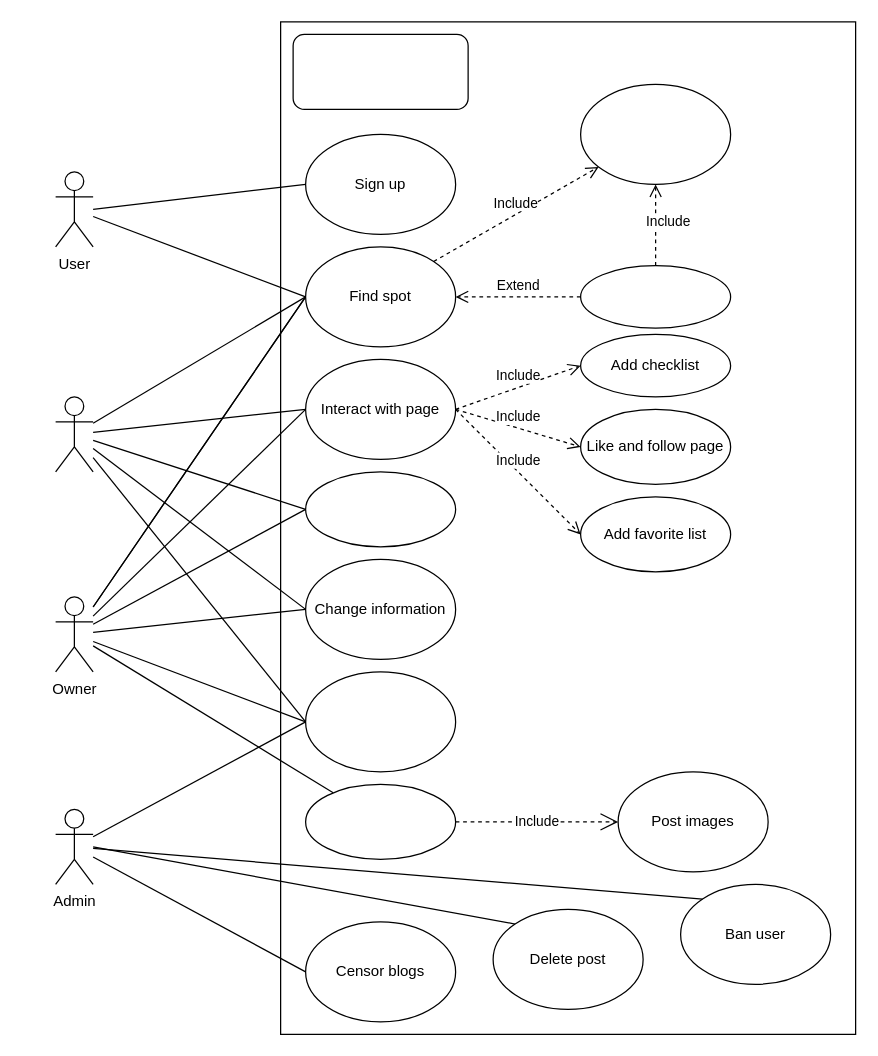
Some shapes in this 878 by 1056 pixel diagram are drawn without their labels. Here are the shapes that lost their labels. From the top down, the box of each, then its label:
(292, 33, 468, 109): Gudspot environment
(579, 83, 731, 184): Export into Google Map link
(579, 264, 731, 328): Recommend spot
(54, 396, 93, 472): Registered user
(304, 471, 456, 547): Comment on blog
(304, 671, 456, 772): Sign in - sign out
(304, 783, 456, 859): Write blogs
